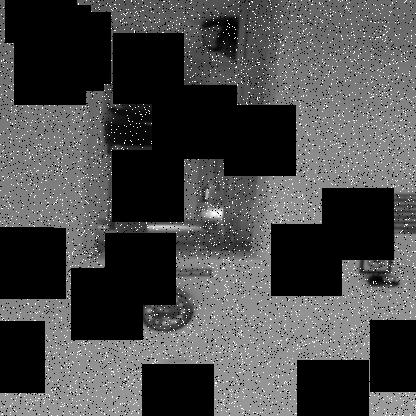Porte: (77, 0, 288, 265)
